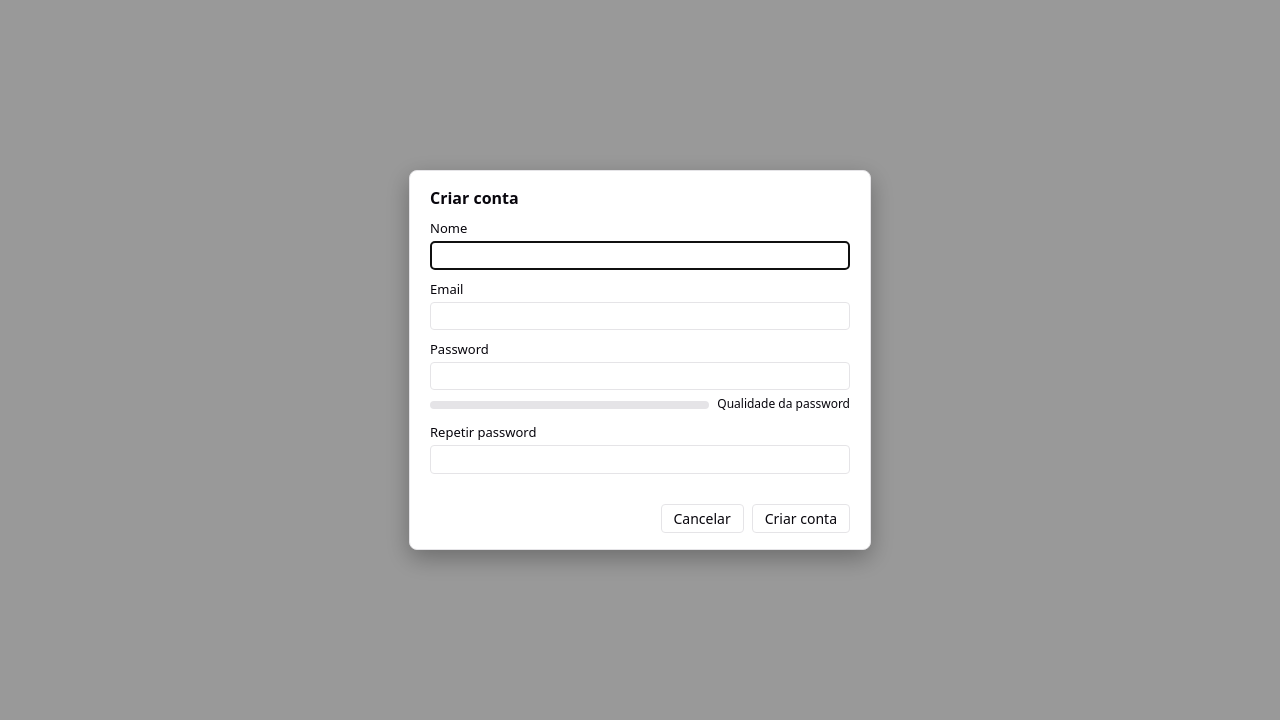
RegisterDialog › não envia dados inválidos (1)
The image size is (1280, 720).
Type " Ana Silva " into the field labelled "Nome" at (640, 256), box 430,241 -> 850,270
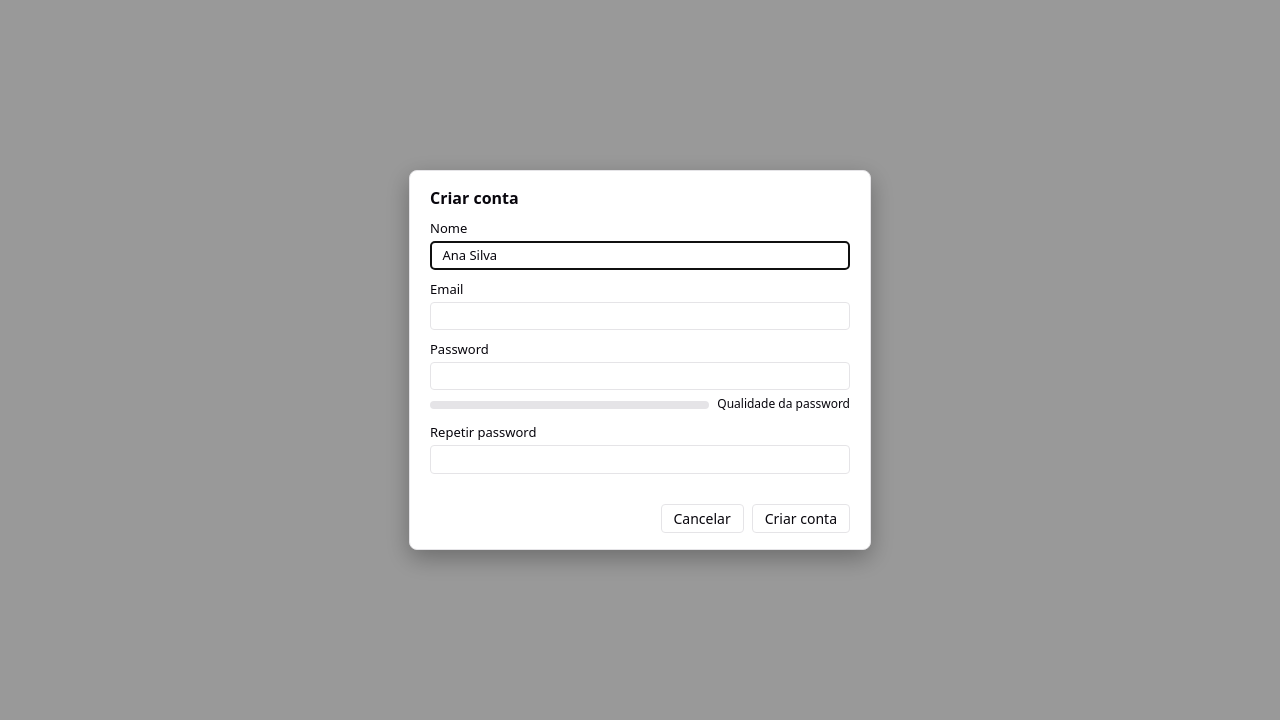
Type "sem-arroba" into the field labelled "Email" at (640, 316), box 430,302 -> 850,330
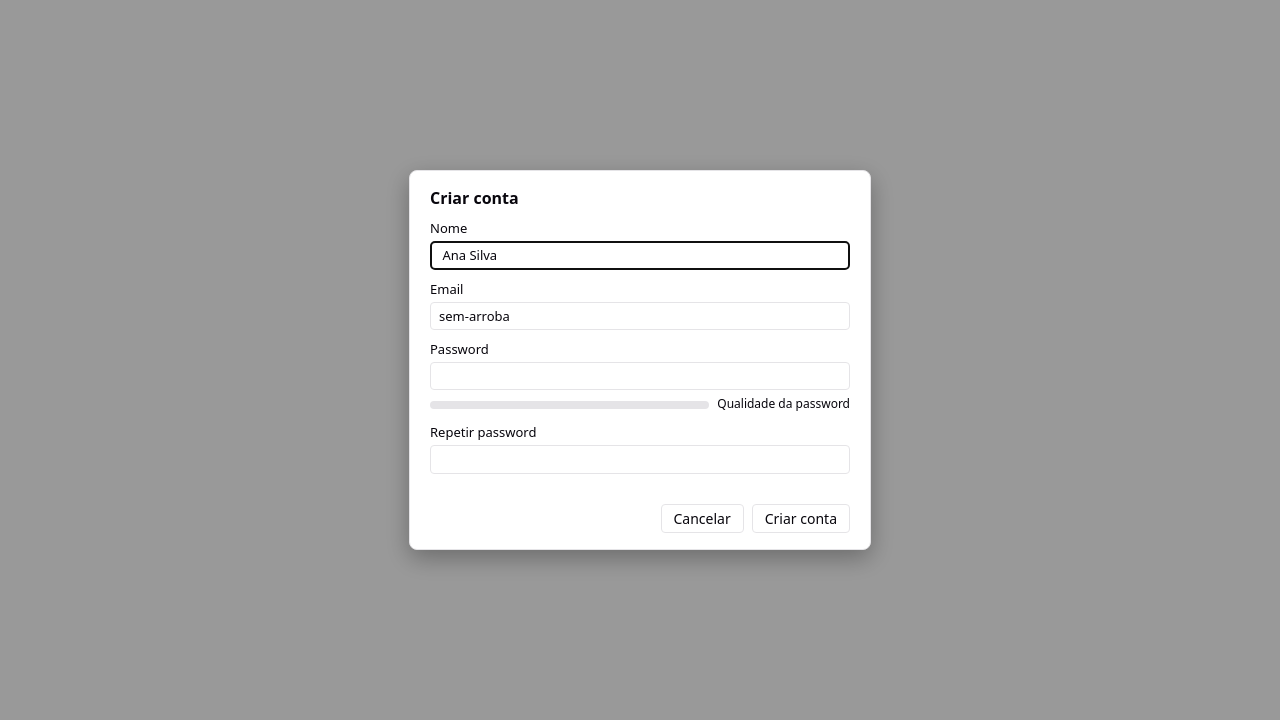
Type "Abcdefg1!" into the password field labelled "Password" at (640, 376), box 430,362 -> 850,390
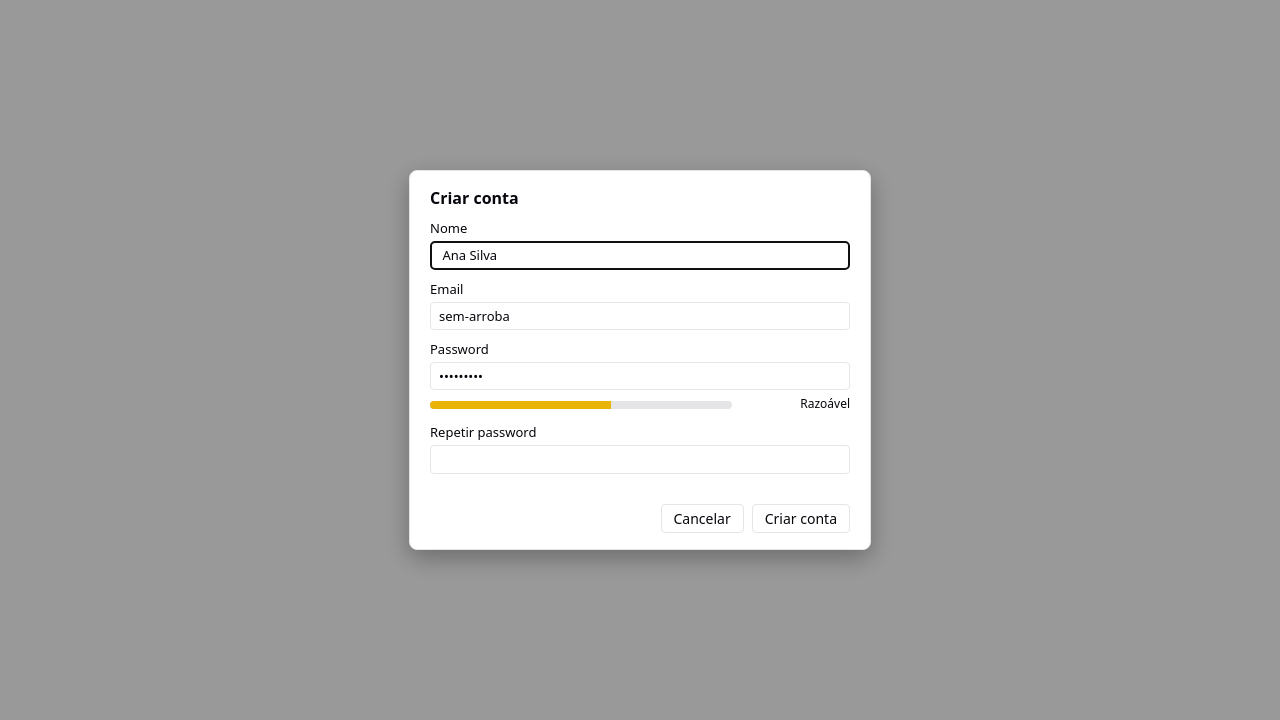
Type "Abcdefg1!" into the password field labelled "Repetir password" at (640, 460), box 430,445 -> 850,474
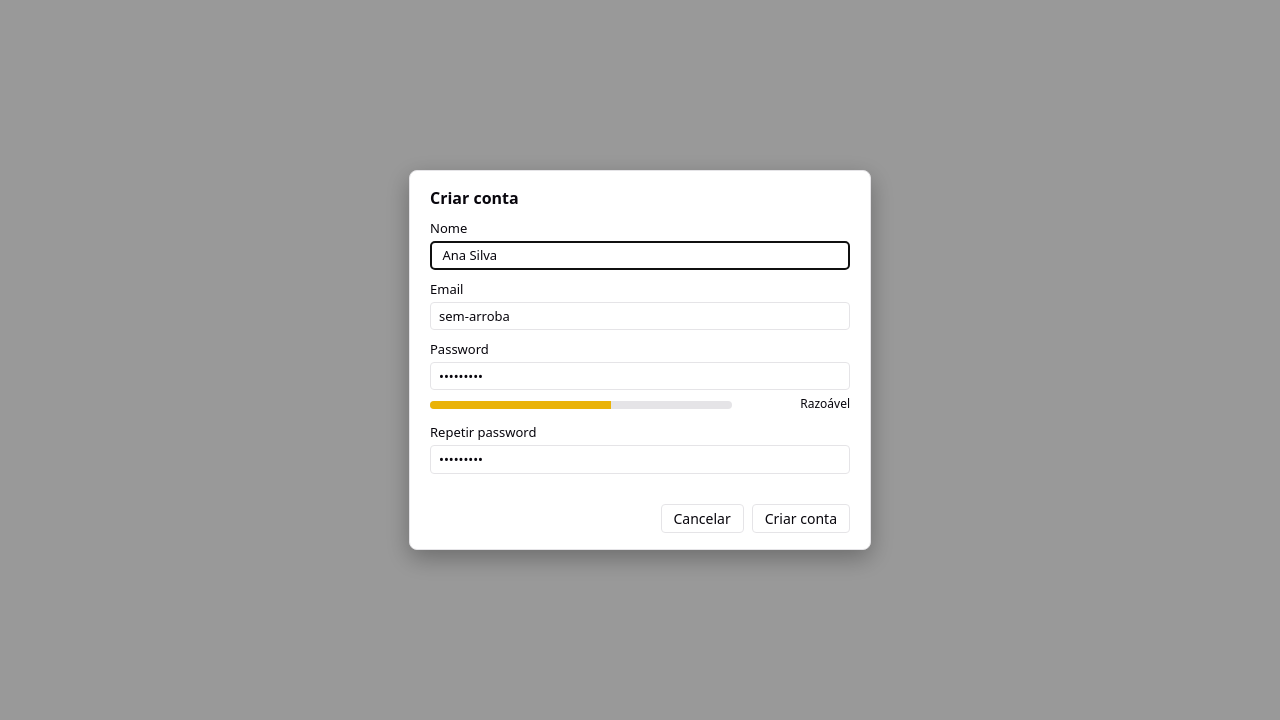
Click the button "Criar conta" at (801, 518), box 752,504 -> 850,533
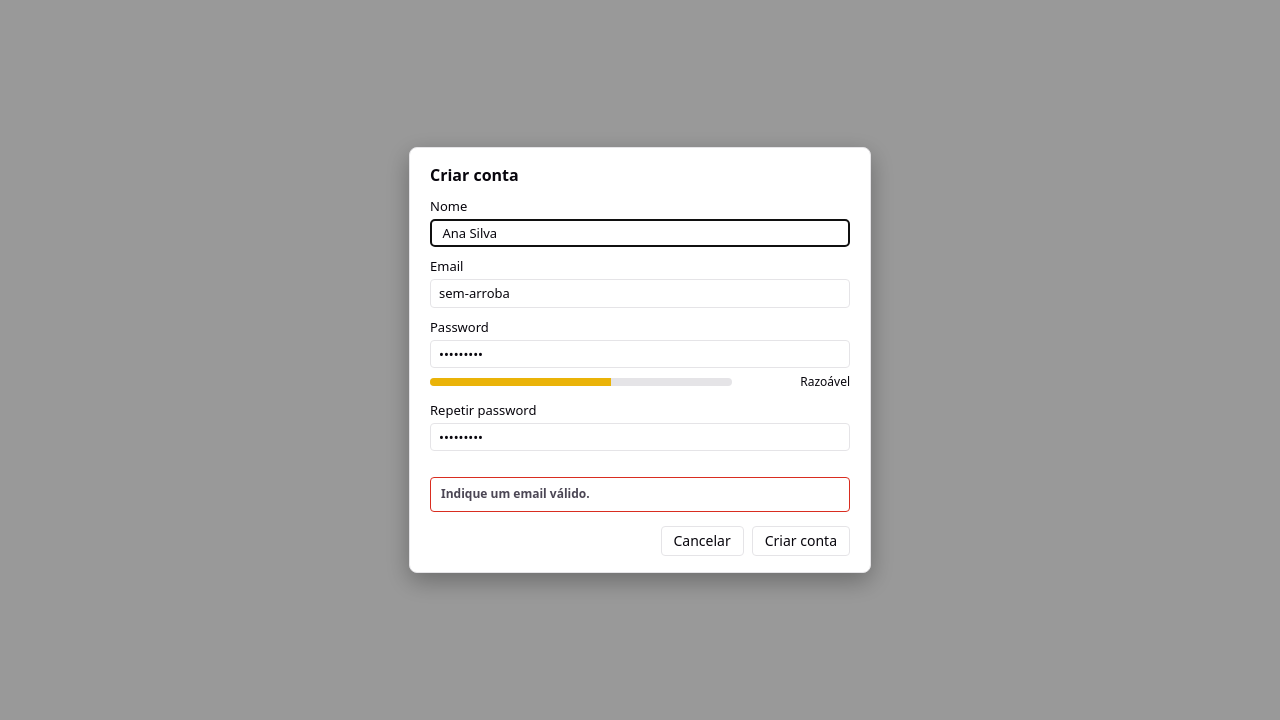
Expected: the message reads "Indique um email válido.", 441,485 -> 590,502
